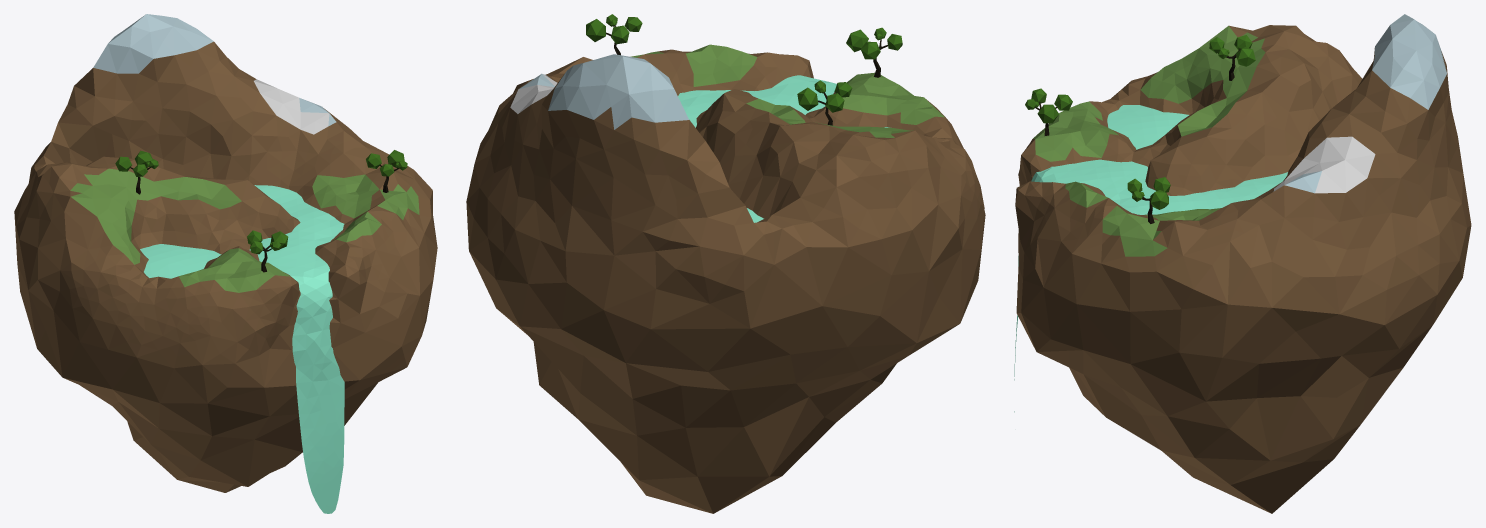
The model's file is low_poly_island_full.gltf.
3 views of the same model, side by side, from view 1: azimuth 30°, elevation 25°; view 2: azimuth 150°, elevation 25°; view 3: azimuth 270°, elevation 25° (orthographic). The views are drawn at different scales.
Parts seen in each view (by area): view 1: Island, Water; view 2: Island, Water; view 3: Island, Water.
Boxes of the visible parts, bbox=[...] form: Island: bbox=[14, 14, 437, 492]; Water: bbox=[140, 185, 344, 513]; Island: bbox=[466, 44, 985, 513]; Water: bbox=[678, 75, 889, 222]; Island: bbox=[1015, 14, 1471, 513]; Water: bbox=[1014, 105, 1287, 412].
Bounding box in the file's own units: 20.26 × 21.37 × 18.81.
